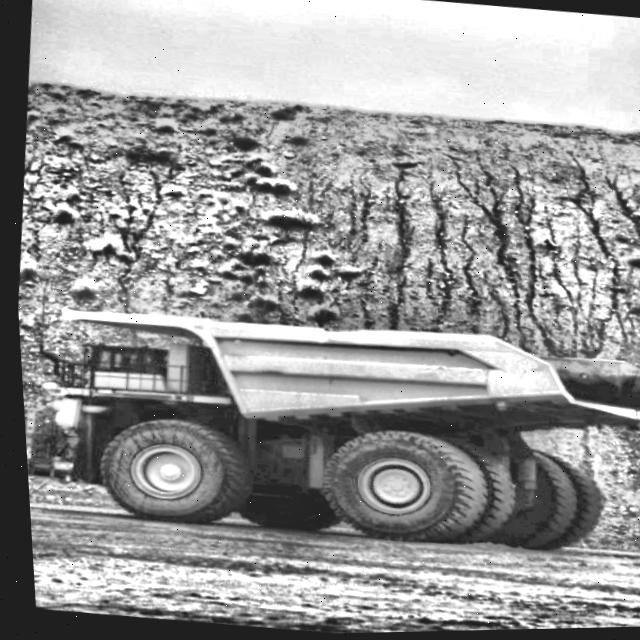dump_truck: (13, 263, 640, 589)
